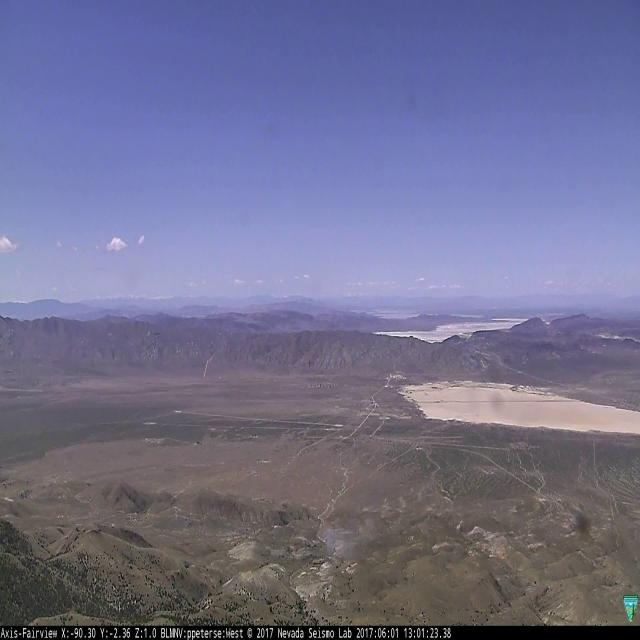smoke: (324, 514, 363, 558)
